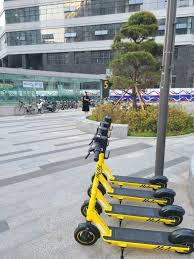kick_body: (111, 229, 171, 249), (114, 205, 161, 220), (115, 176, 152, 188), (115, 189, 154, 200)
kick_wheel: (74, 222, 99, 246), (174, 227, 194, 254), (161, 205, 184, 226), (80, 201, 103, 217), (158, 187, 176, 205), (151, 175, 168, 186)
